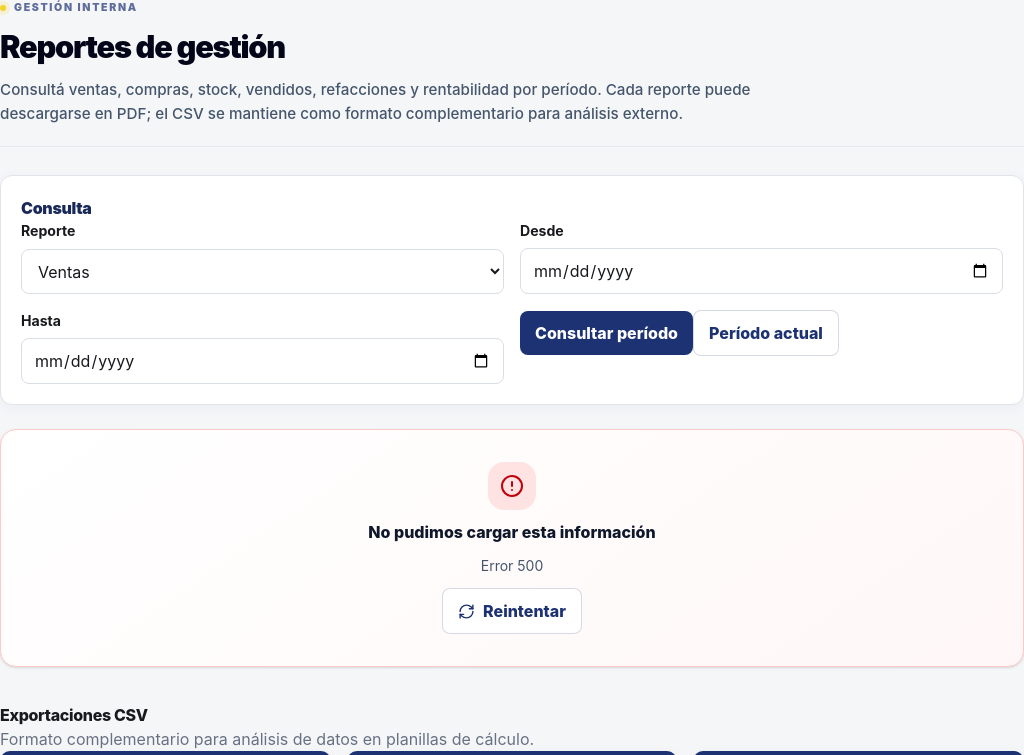
it: ReportesPage CF-02 › expone el error HTTP y permite reintentar
Expected: the text "Error 500" is shown, [481,554,543,578]
Click the button "Reintentar": (512, 611) [442,588,582,634]
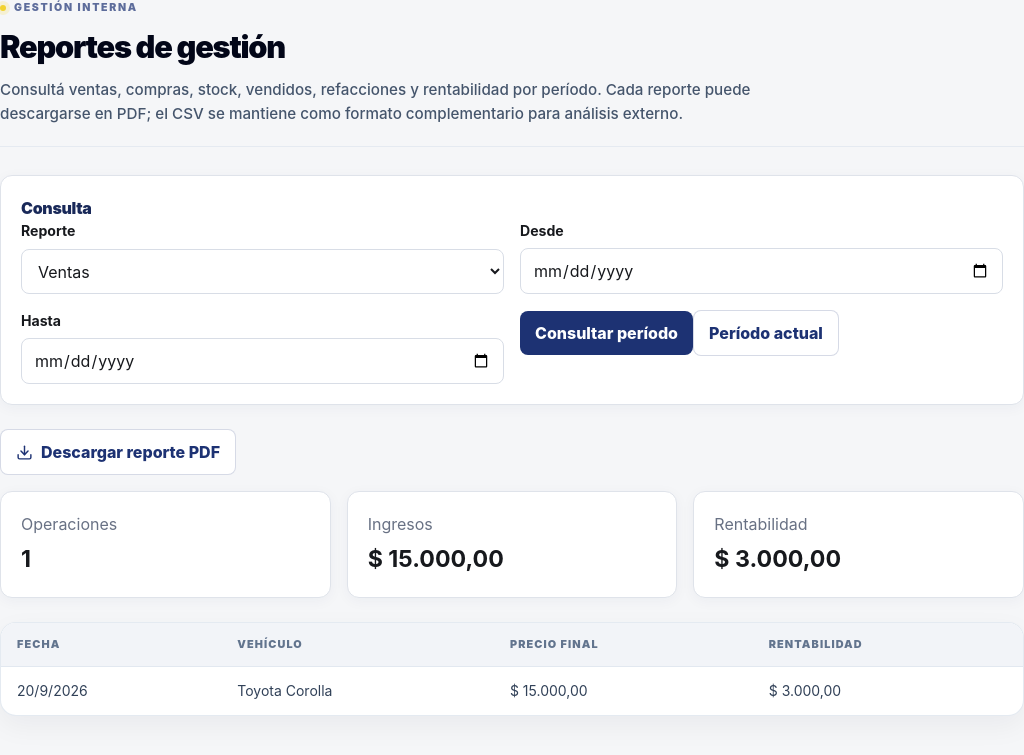
Expected: the text "Toyota Corolla" is shown, [221,667,494,715]
